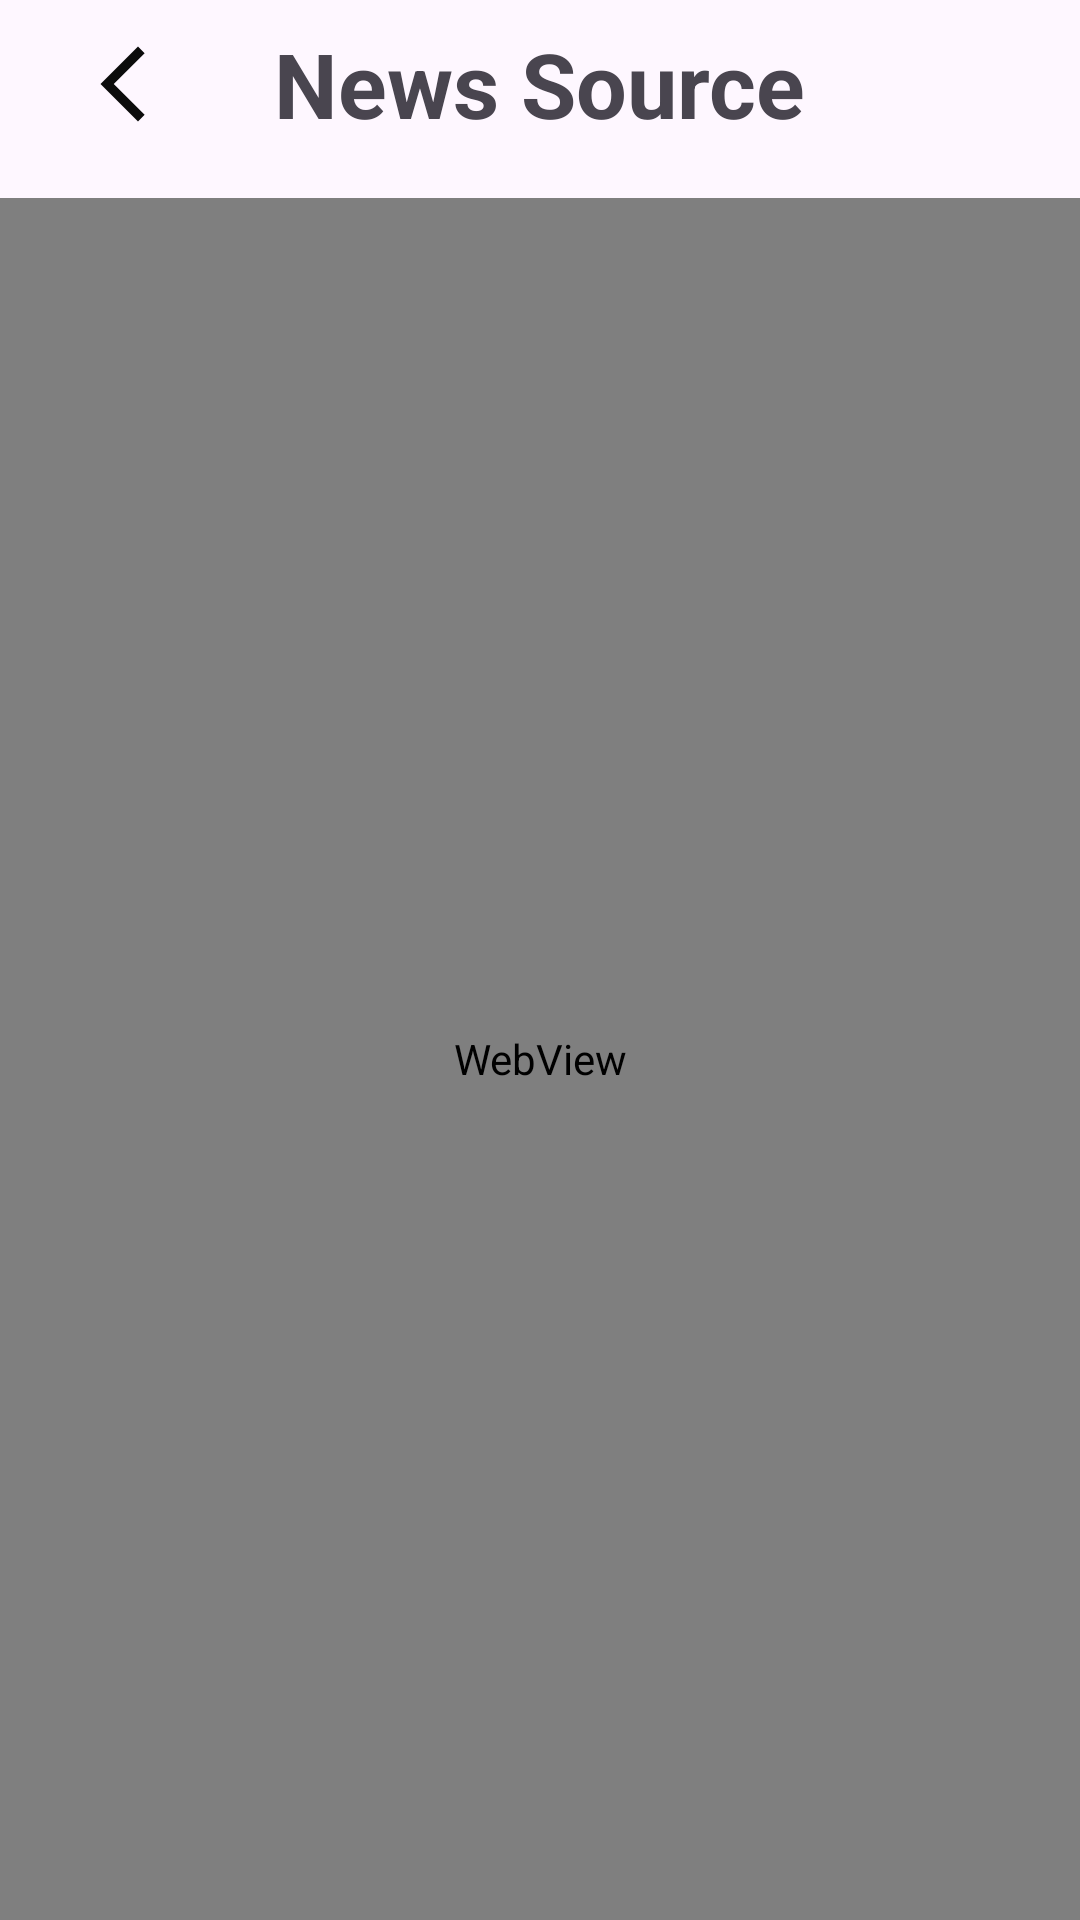

Where to tap for icons on this 1080 × 1920 app screen, as point (x, y):
arrow back: point (122, 84)
